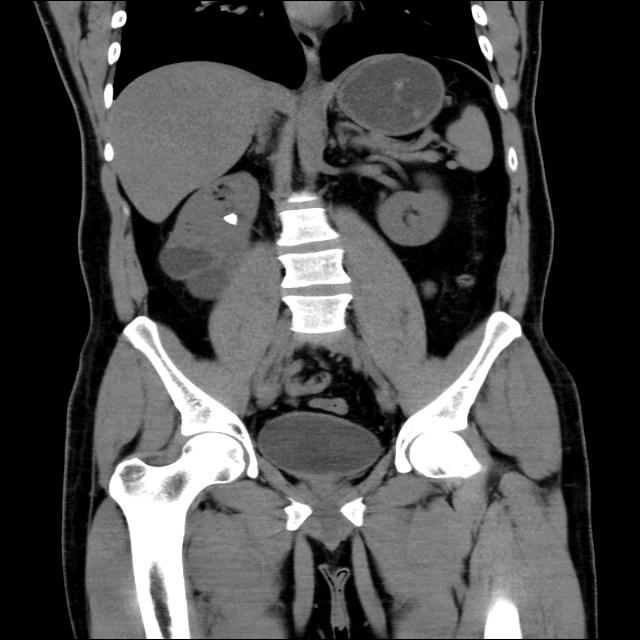kidneystone: (223, 214, 238, 224)
